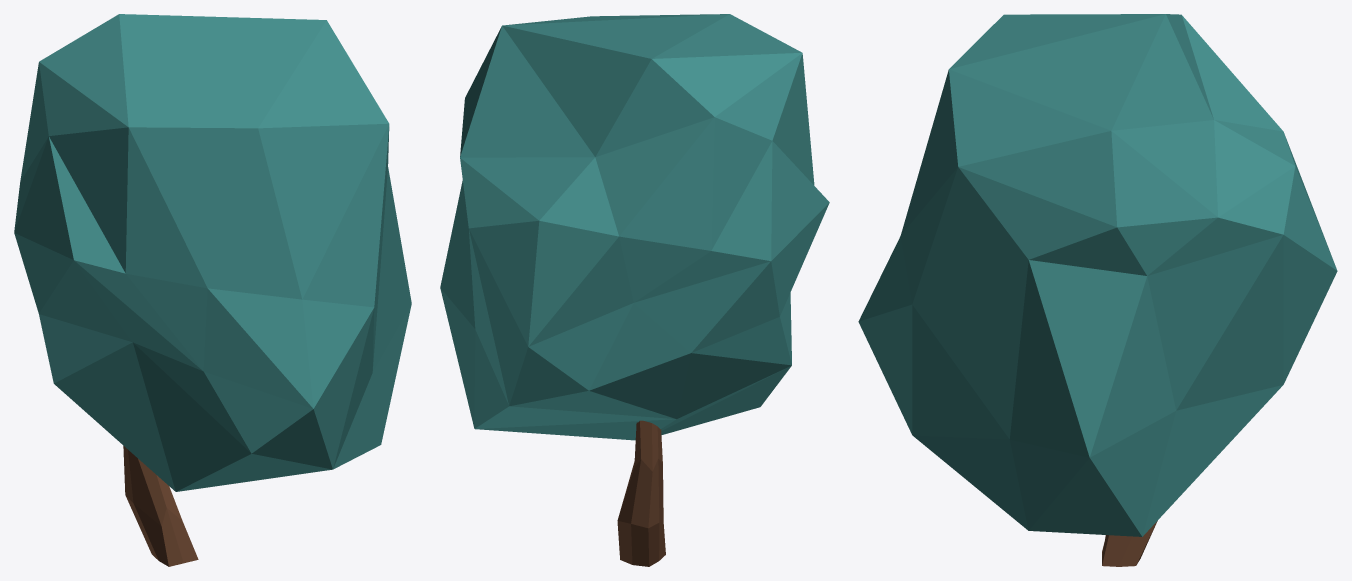
Rendered from Tree_44_Blue.fbx.
3 views of the same model, side by side, from view 1: azimuth 30°, elevation 25°; view 2: azimuth 150°, elevation 25°; view 3: azimuth 270°, elevation 25° (orthographic). The views are drawn at different scales.
Visible parts, largest first — view 1: Tree_44_Blue_Part_1, Tree_44_Blue_Part_2; view 2: Tree_44_Blue_Part_1, Tree_44_Blue_Part_2; view 3: Tree_44_Blue_Part_1, Tree_44_Blue_Part_2.
Boxes of the visible parts, <box> form: Tree_44_Blue_Part_1: <box>14,14,411,491</box>; Tree_44_Blue_Part_2: <box>123,446,198,566</box>; Tree_44_Blue_Part_1: <box>440,14,829,440</box>; Tree_44_Blue_Part_2: <box>617,420,665,566</box>; Tree_44_Blue_Part_1: <box>858,14,1337,536</box>; Tree_44_Blue_Part_2: <box>1102,520,1157,566</box>.
Bounding box in the file's own units: 595 × 825 × 677.
